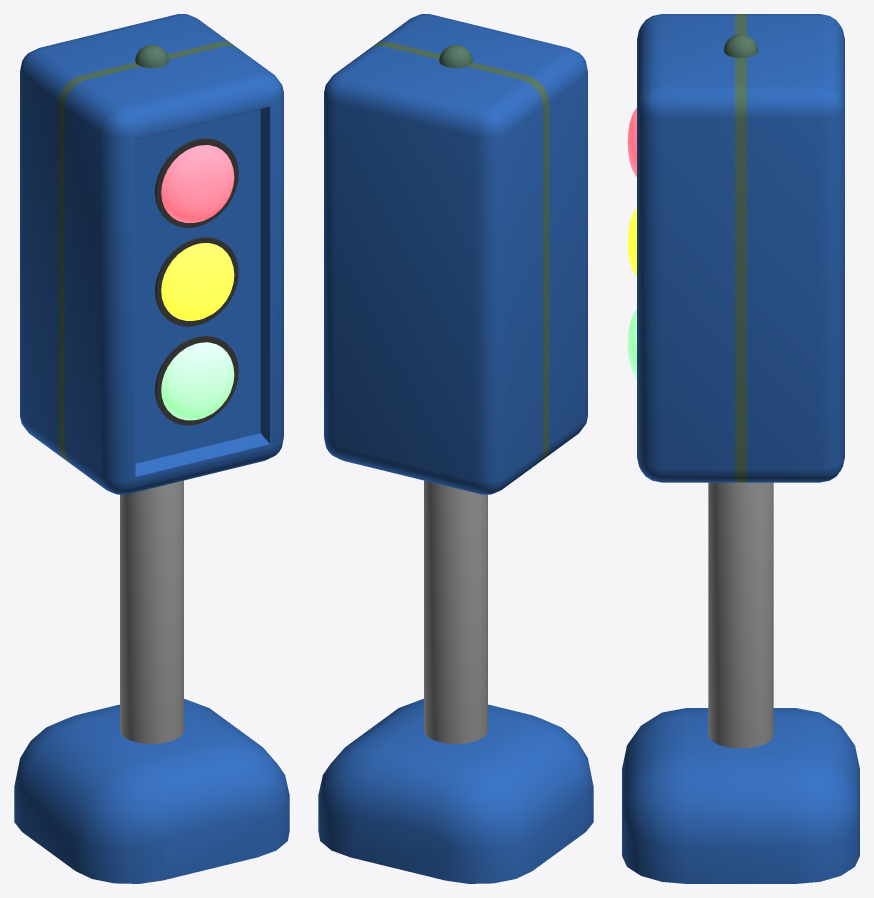
The model's file is traffic-light.glb.
3 views of the same model, side by side, from view 1: azimuth 30°, elevation 25°; view 2: azimuth 150°, elevation 25°; view 3: azimuth 270°, elevation 25° (orthographic). The views are drawn at different scales.
Parts seen in each view (by area): view 1: Cube.001, Cube, Cylinder, Sphere.003, Sphere.002, Sphere.001, Cylinder.002, Cylinder.001, Cylinder.003, Sphere; view 2: Cube.001, Cube, Cylinder, Sphere; view 3: Cube.001, Cube, Cylinder, Sphere, Sphere.001, Sphere.002, Sphere.003.
Boxes of the visible parts, left/top/right/bottom form: Cube.001: left=20, top=14, right=283, bottom=494; Cube: left=14, top=699, right=289, bottom=883; Cylinder: left=120, top=480, right=183, bottom=743; Sphere.003: left=161, top=342, right=234, bottom=420; Sphere.002: left=161, top=243, right=234, bottom=320; Sphere.001: left=161, top=145, right=234, bottom=222; Cylinder.002: left=155, top=237, right=238, bottom=326; Cylinder.001: left=155, top=138, right=238, bottom=227; Cylinder.003: left=155, top=336, right=238, bottom=425; Sphere: left=135, top=44, right=168, bottom=68; Cube.001: left=324, top=14, right=587, bottom=494; Cube: left=318, top=699, right=593, bottom=883; Cylinder: left=424, top=480, right=487, bottom=743; Sphere: left=439, top=44, right=472, bottom=68; Cube.001: left=637, top=14, right=844, bottom=482; Cube: left=622, top=708, right=859, bottom=883; Cylinder: left=708, top=482, right=773, bottom=748; Sphere: left=723, top=34, right=758, bottom=57; Sphere.001: left=627, top=108, right=636, bottom=176; Sphere.002: left=627, top=207, right=636, bottom=276; Sphere.003: left=627, top=309, right=636, bottom=378.
Bounding box in the file's own units: 1.47 × 5.31 × 1.44.
